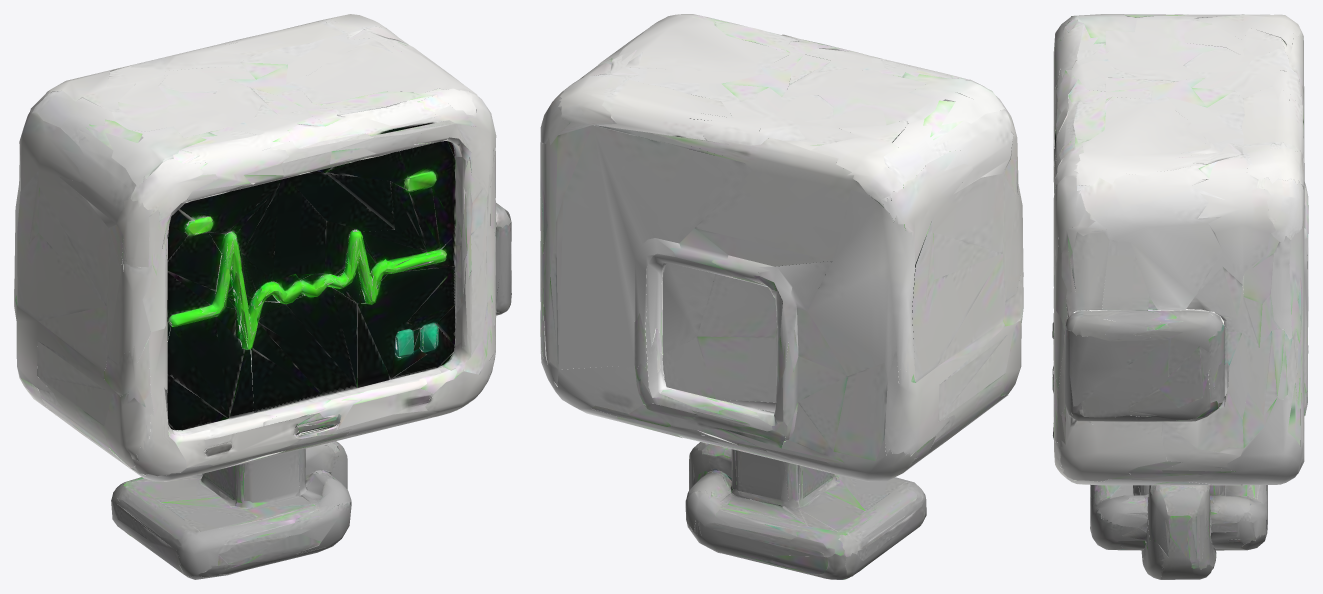
The model's file is wall-monitor.glb.
3 views of the same model, side by side, from view 1: azimuth 30°, elevation 25°; view 2: azimuth 150°, elevation 25°; view 3: azimuth 270°, elevation 25° (orthographic).
Parts seen in each view (by area): view 1: Mesh_0; view 2: Mesh_0; view 3: Mesh_0.
Boxes of the visible parts, x1=… form: Mesh_0: x1=14, y1=14, x2=511, y2=579; Mesh_0: x1=540, y1=14, x2=1023, y2=579; Mesh_0: x1=1052, y1=14, x2=1308, y2=579.
Bounding box in the file's own units: 1.68 × 1.9 × 0.9418.
Materials: 1 (1 with a texture image).
